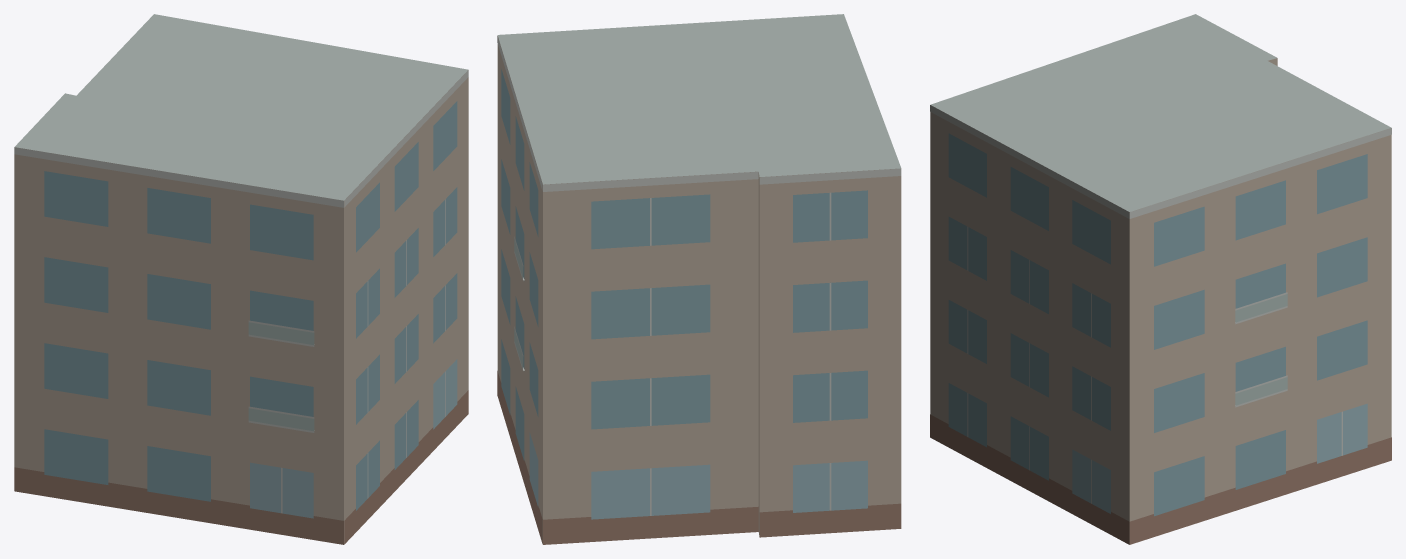
The model's file is survey-upis-32997587.glb.
The picture shows the model from 3 angles, left to right: view 1: azimuth 30°, elevation 25°; view 2: azimuth 150°, elevation 25°; view 3: azimuth 270°, elevation 25°; orthographic projection. The views are drawn at different scales.
Parts seen in each view (by area): view 1: survey-upis-32997587.tmp; view 2: survey-upis-32997587.tmp; view 3: survey-upis-32997587.tmp.
Boxes of the visible parts, x1,y1,x2,y2 form: survey-upis-32997587.tmp: (14,14,468,544); survey-upis-32997587.tmp: (497,14,901,544); survey-upis-32997587.tmp: (930,14,1391,544).
Bounding box in the file's own units: 14.89 × 11.65 × 14.66.
